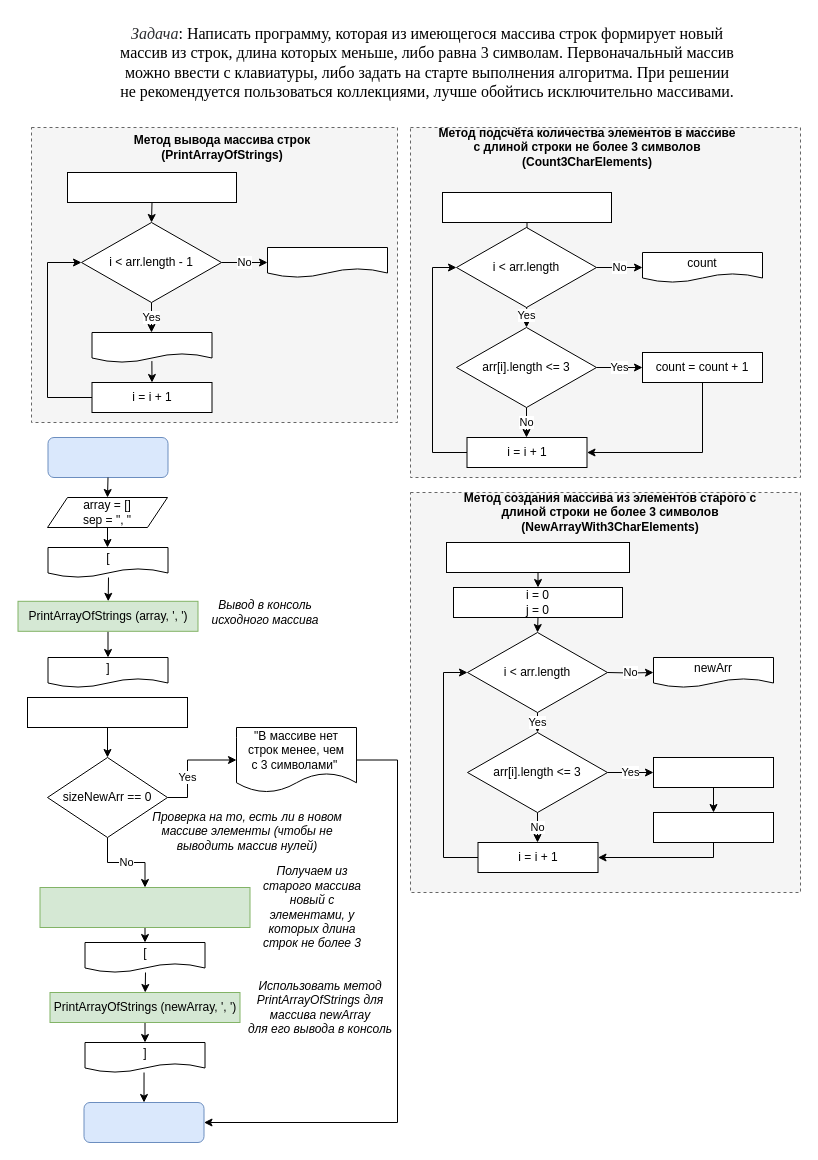
This 818x1160 diagram has some shape labels left out. Here are the shapes that lost their labels. From the top down, the centre of each, then its label:
At point 151,187: "i = 0".
At point 527,207: "count = 0 i = 0".
At point 327,262: "arr[i]".
At point 151,347: "arr[i], sep".
At point 107,457: "Start".
At point 538,557: "newArr = [size]".
At point 107,712: "sizeNewArr = Count3CharElements (array)".
At point 713,772: "newArr[j] = arr[i]".
At point 713,827: "j = j +1".
At point 144,907: "newArray = NewArrayWith3CharElements (array, sizeNewArr)".
At point 143,1122: "End".
